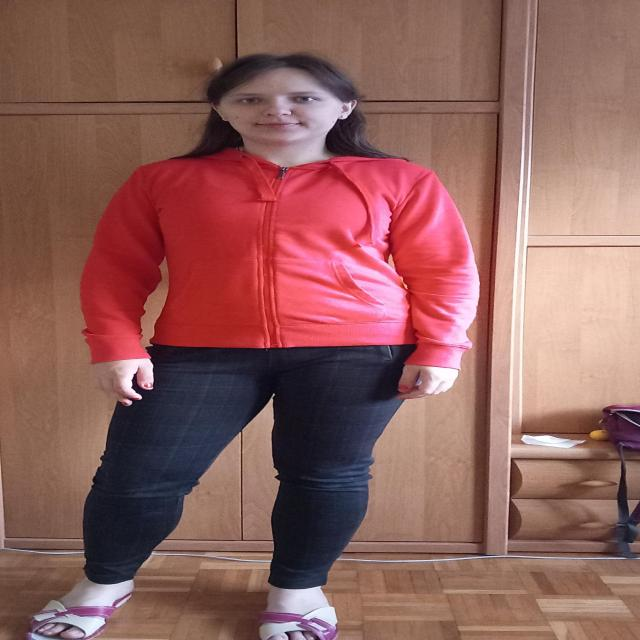pants: (78, 344, 426, 590)
sweater: (81, 149, 480, 369)
